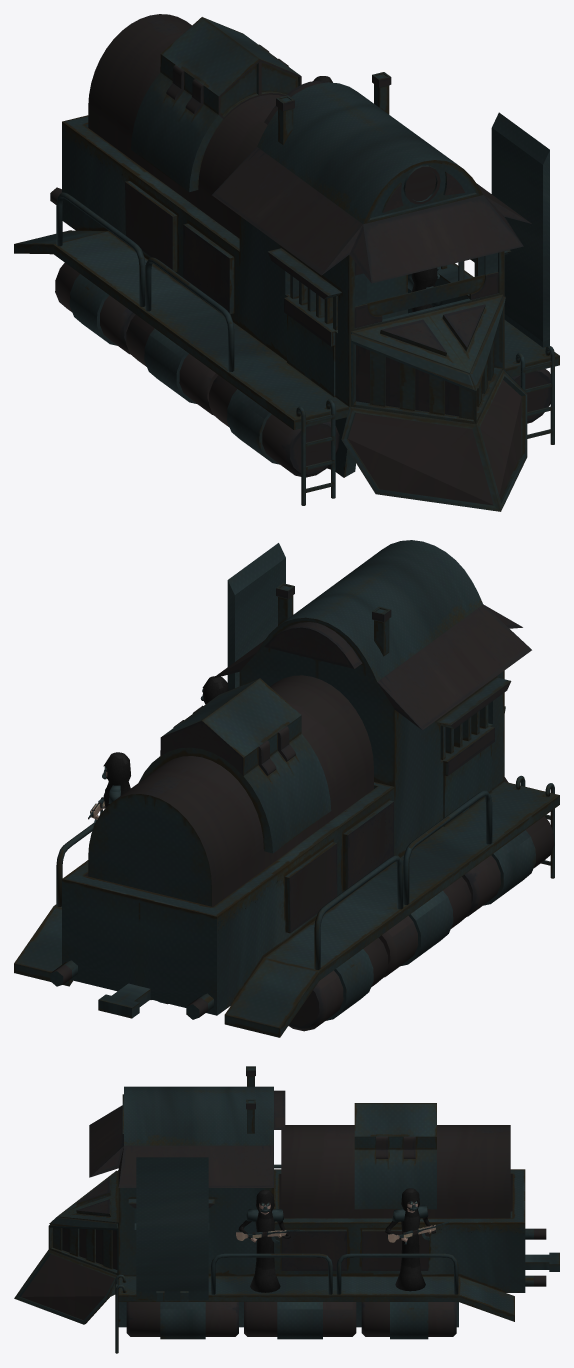
File: TRAAAAIIINNN.fbx
3 renders of one model, top to bottom at view 1: azimuth 30°, elevation 25°; view 2: azimuth 150°, elevation 25°; view 3: azimuth 270°, elevation 25°, orthographic. The views are drawn at different scales.
Parts seen in each view (by area): view 1: Cube.002; view 2: Cube.002; view 3: Cube.002.
Boxes of the visible parts, x1=… form: Cube.002: x1=14, y1=14, x2=559, y2=511; Cube.002: x1=14, y1=540, x2=559, y2=1037; Cube.002: x1=14, y1=1066, x2=559, y2=1353.
Bounding box in the file's own units: 14588 × 16415 × 35233.
